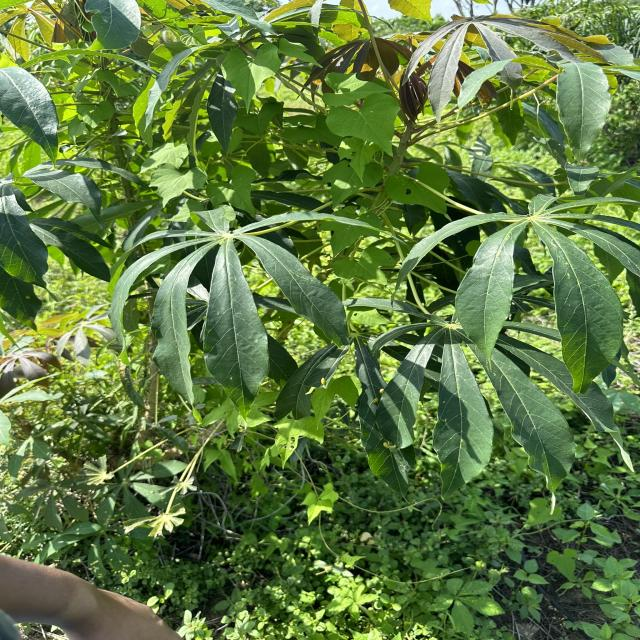Maleza: (202, 502, 629, 639), (204, 390, 369, 568), (307, 73, 464, 221), (133, 140, 268, 217), (320, 62, 407, 153)
